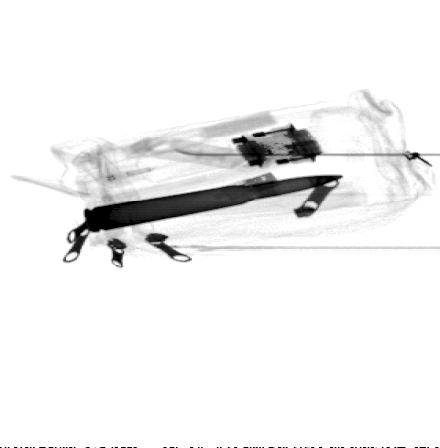Bullet: (81, 173, 348, 234)
